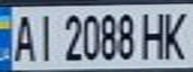0: (78, 10, 100, 62)
2: (57, 10, 84, 62)
8: (115, 9, 139, 61), (100, 10, 121, 62)
A: (9, 10, 39, 63)
H: (139, 8, 172, 61)
I: (33, 9, 57, 63)
K: (157, 7, 193, 61)
